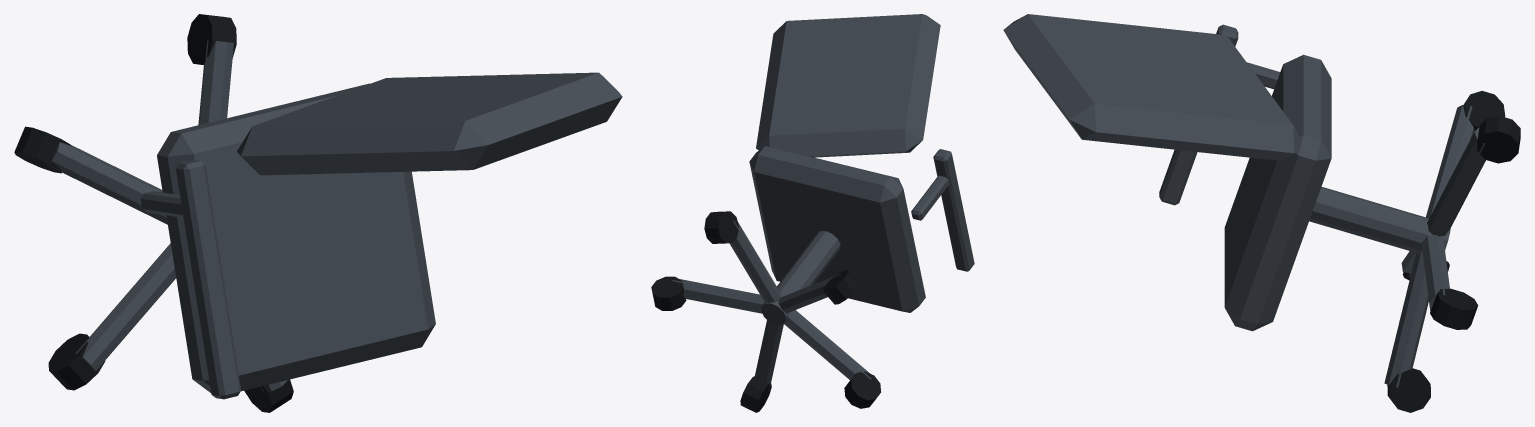
The model's file is BrokenChair.fbx.
The picture shows the model from 3 angles, left to right: view 1: azimuth 30°, elevation 25°; view 2: azimuth 150°, elevation 25°; view 3: azimuth 270°, elevation 25°; orthographic projection. The views are drawn at different scales.
Parts seen in each view (by area): view 1: BrokenChair; view 2: BrokenChair; view 3: BrokenChair.
Part boxes in pixels (x1,y1,x2,y2): BrokenChair: (14,14,622,412); BrokenChair: (651,14,974,412); BrokenChair: (1003,14,1520,412).
Bounding box in the file's own units: 75.43 × 91.82 × 112.
Materials: 1 (1 with a texture image).
